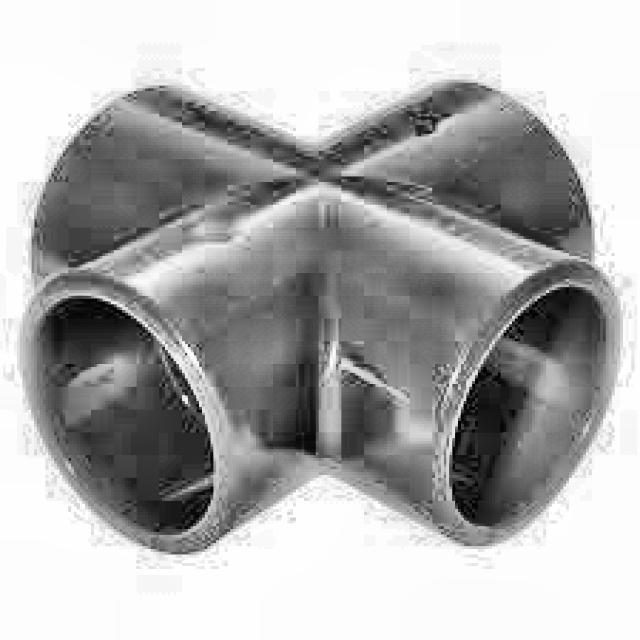EQUALCROSS: (17, 80, 626, 560)
